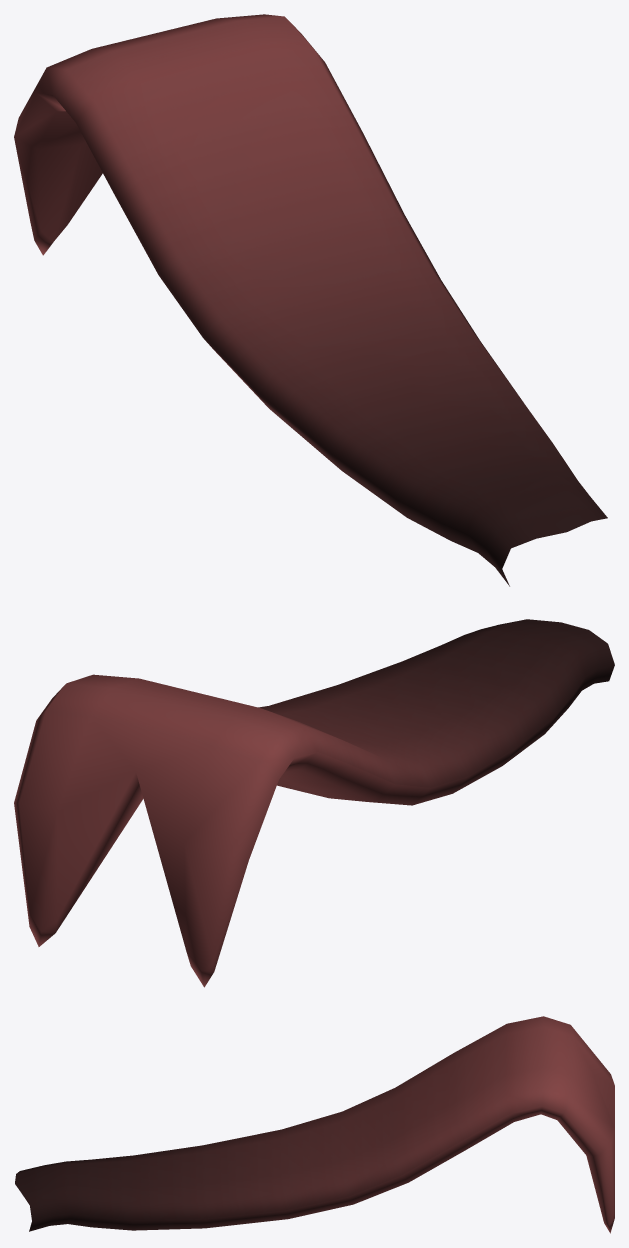
Rendered from forked.glb.
3 renders of one model, top to bottom at view 1: azimuth 30°, elevation 25°; view 2: azimuth 150°, elevation 25°; view 3: azimuth 270°, elevation 25°, orthographic. The views are drawn at different scales.
Parts seen in each view (by area): view 1: cc_forked; view 2: cc_forked; view 3: cc_forked.
Boxes of the visible parts, x1,y1,x2,y2 form: cc_forked: (14,14,607,586); cc_forked: (14,619,614,987); cc_forked: (15,1016,614,1233).
Size of the model in its own units: 0.0534 by 0.0527 by 0.1667.
Materials: 1 (1 with a texture image).
